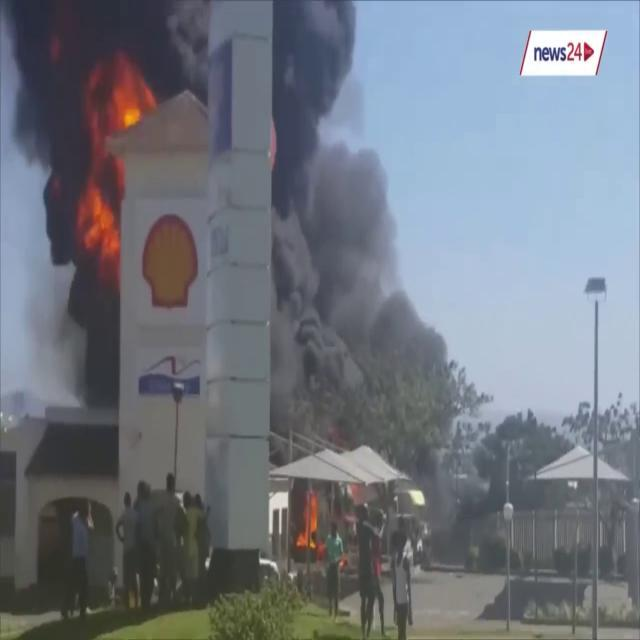Fire: (78, 55, 150, 268), (295, 481, 323, 555)
Smoke: (269, 0, 466, 462), (0, 0, 211, 386)
